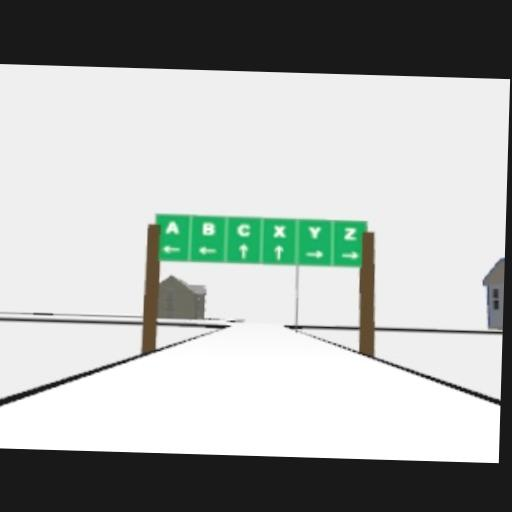A: (164, 220, 181, 235)
B: (201, 222, 216, 237)
C: (236, 223, 251, 238)
Left: (163, 243, 181, 256), (198, 245, 217, 256)
Right: (340, 248, 359, 261), (305, 248, 324, 259)
Straight: (273, 243, 285, 262), (238, 243, 250, 260)
X: (273, 224, 288, 239)
Y: (307, 225, 322, 240)
Z: (343, 226, 358, 241)
